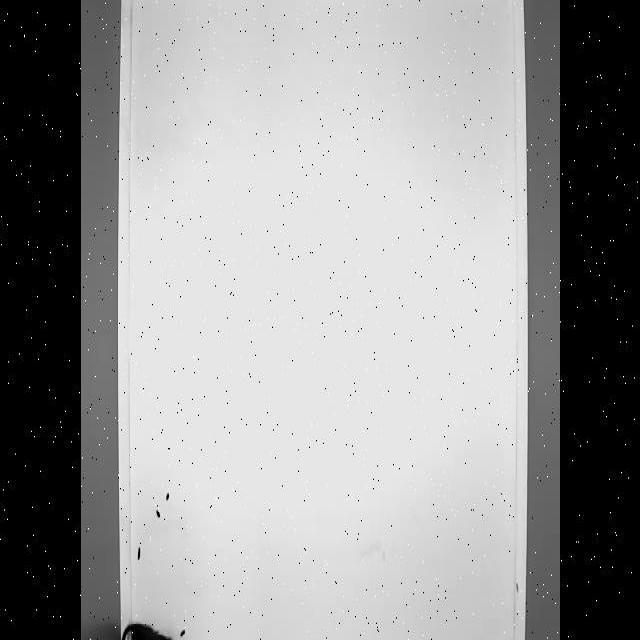rat: (109, 617, 187, 640)
